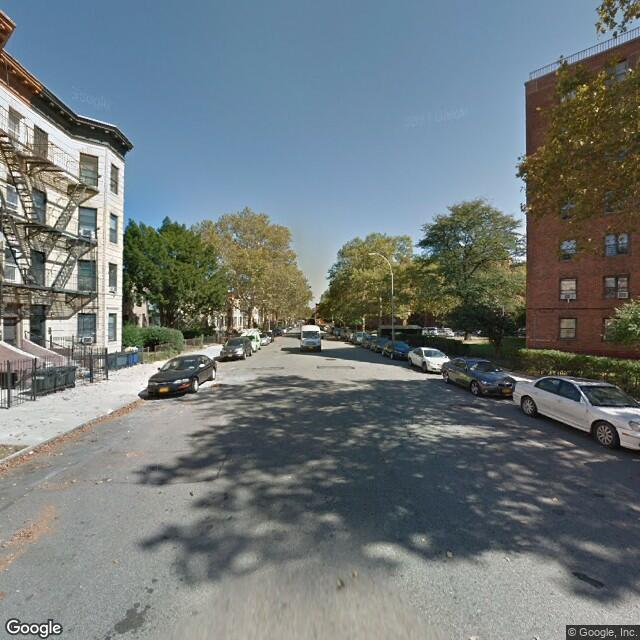litter: (21, 448, 46, 461)
